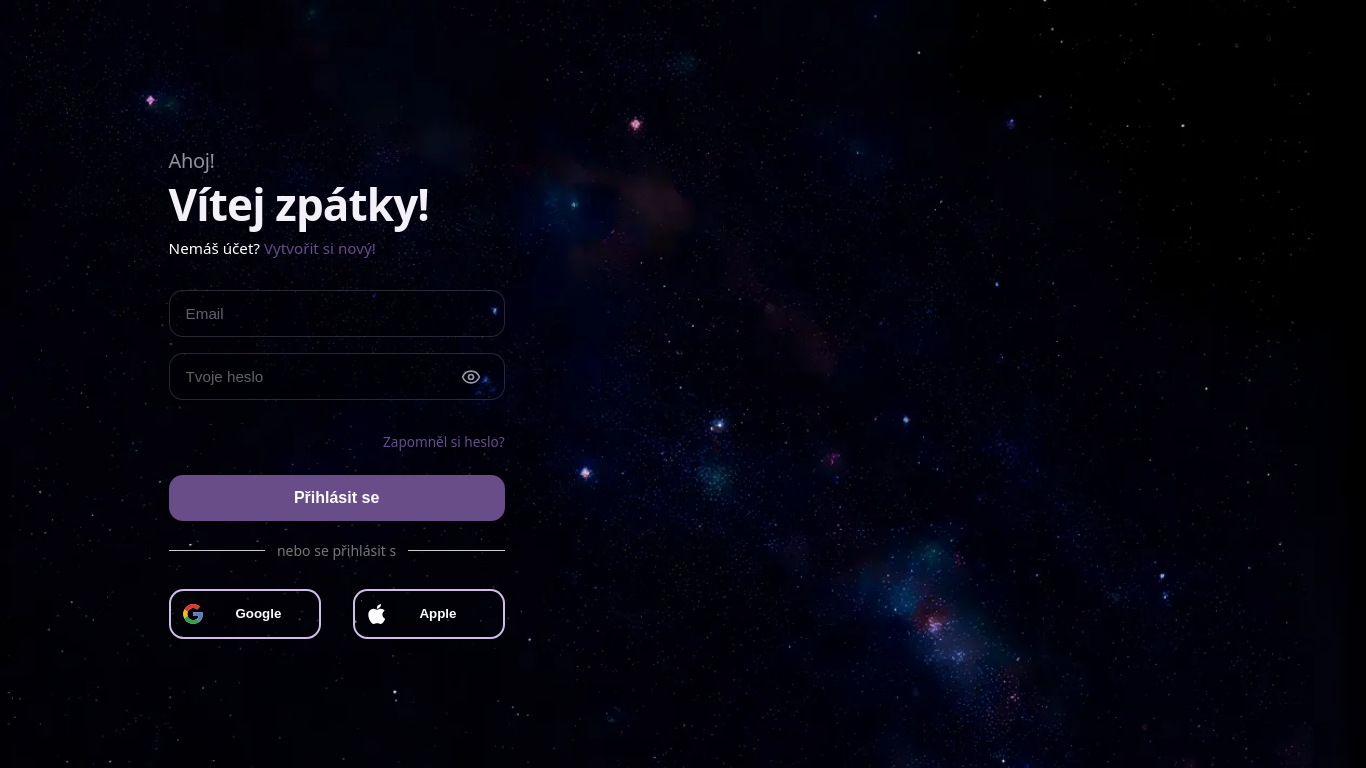
Scenario: LoginForm › shows error for short password
In the field with placeholder "Email": {"x": 337, "y": 314} x1=169 y1=290 x2=505 y2=337, type "test@example.com"
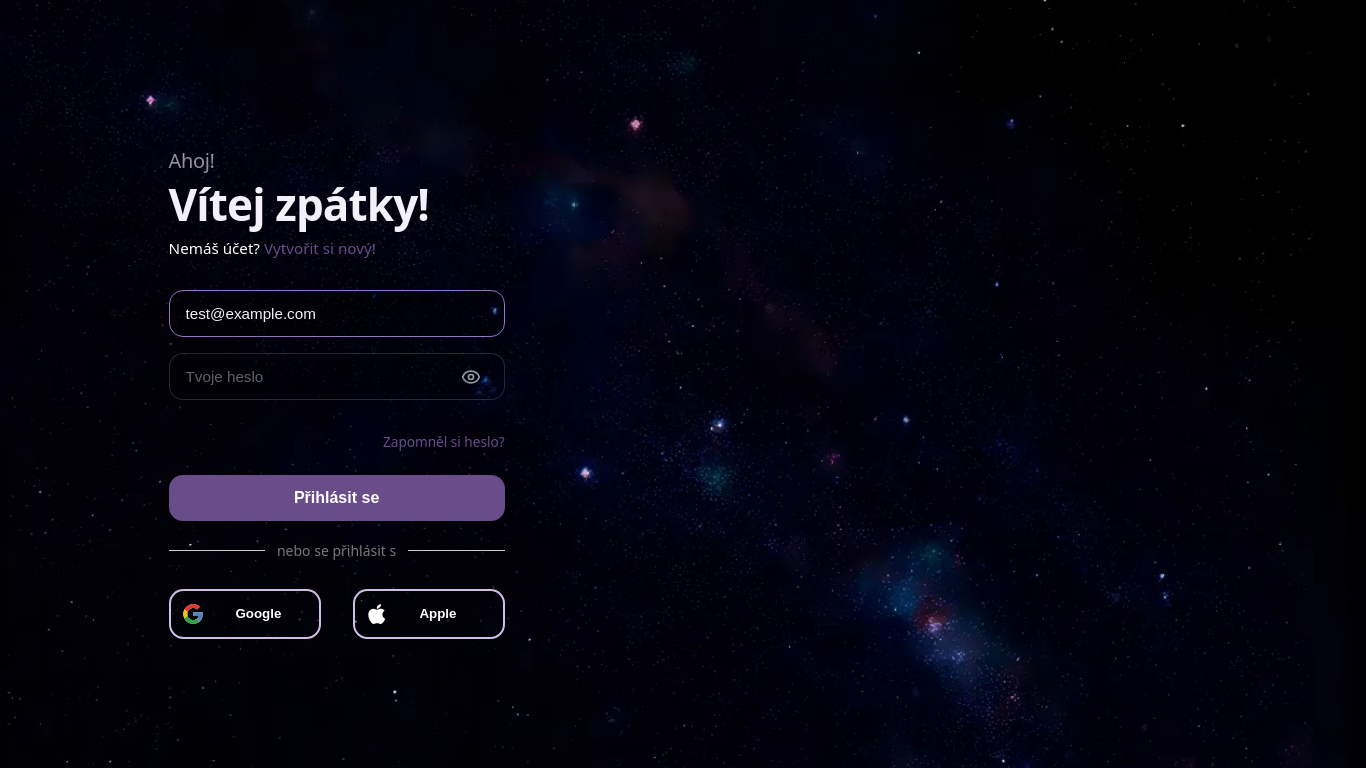
In the password field with placeholder "Tvoje heslo": {"x": 337, "y": 377} x1=169 y1=353 x2=505 y2=400, type "short"
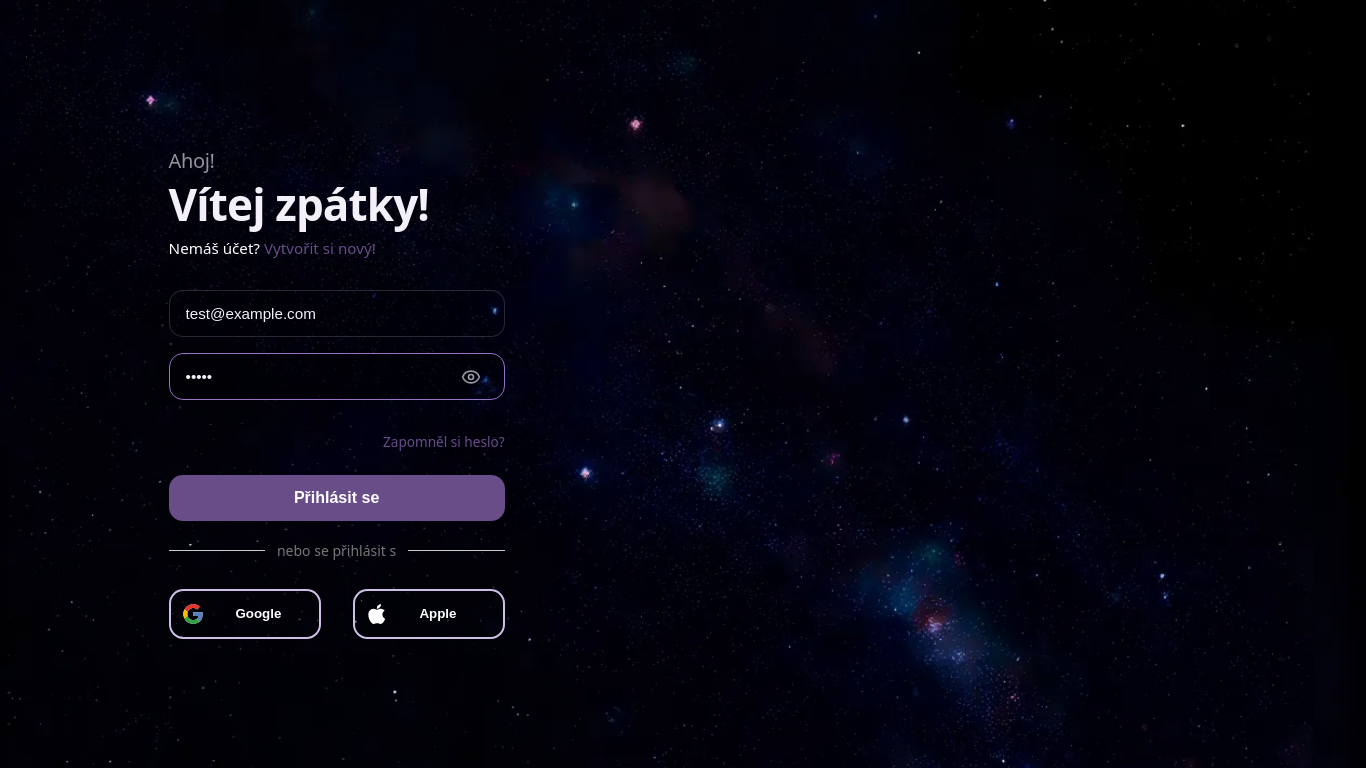
Click the button "Přihlásit se": {"x": 337, "y": 498} x1=169 y1=475 x2=505 y2=521
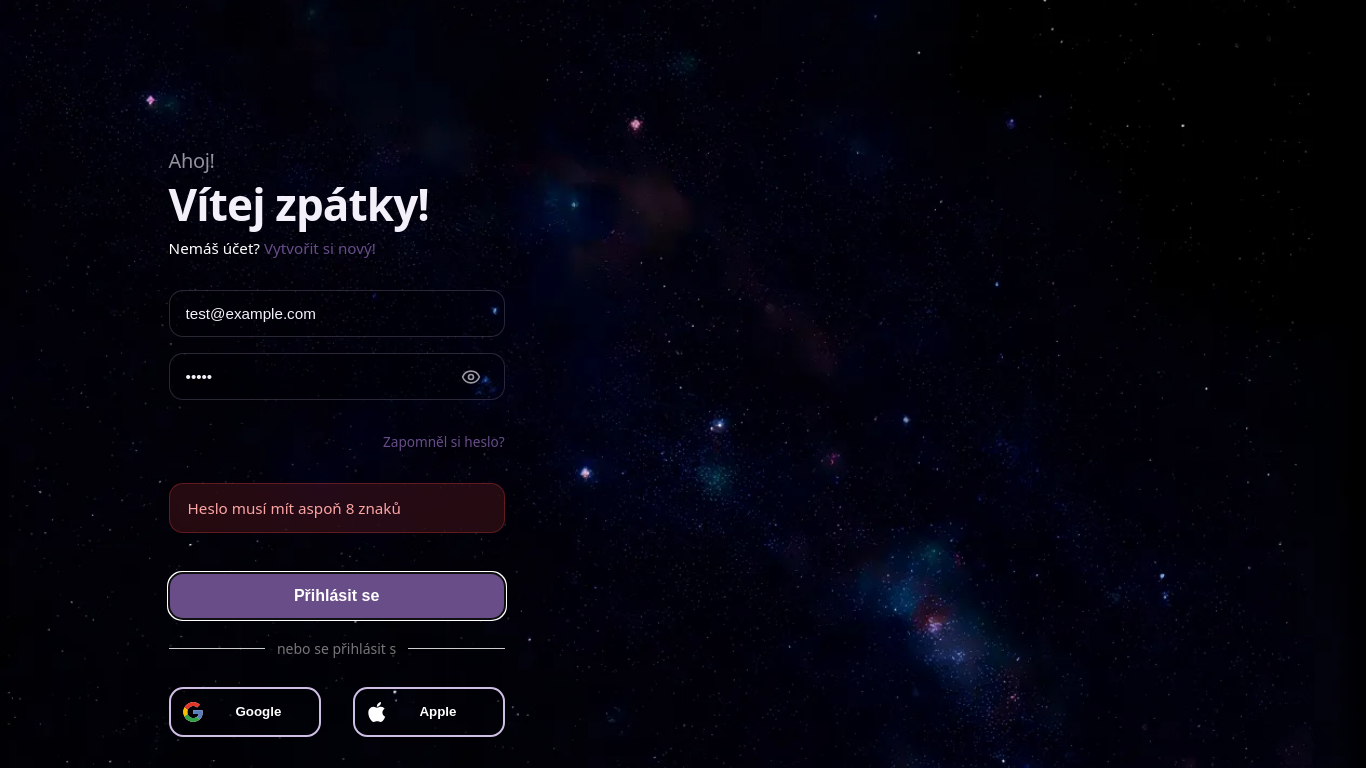
expect the message reads "Heslo musí mít aspoň 8 znaků": met, box x1=188 y1=498 x2=401 y2=518
